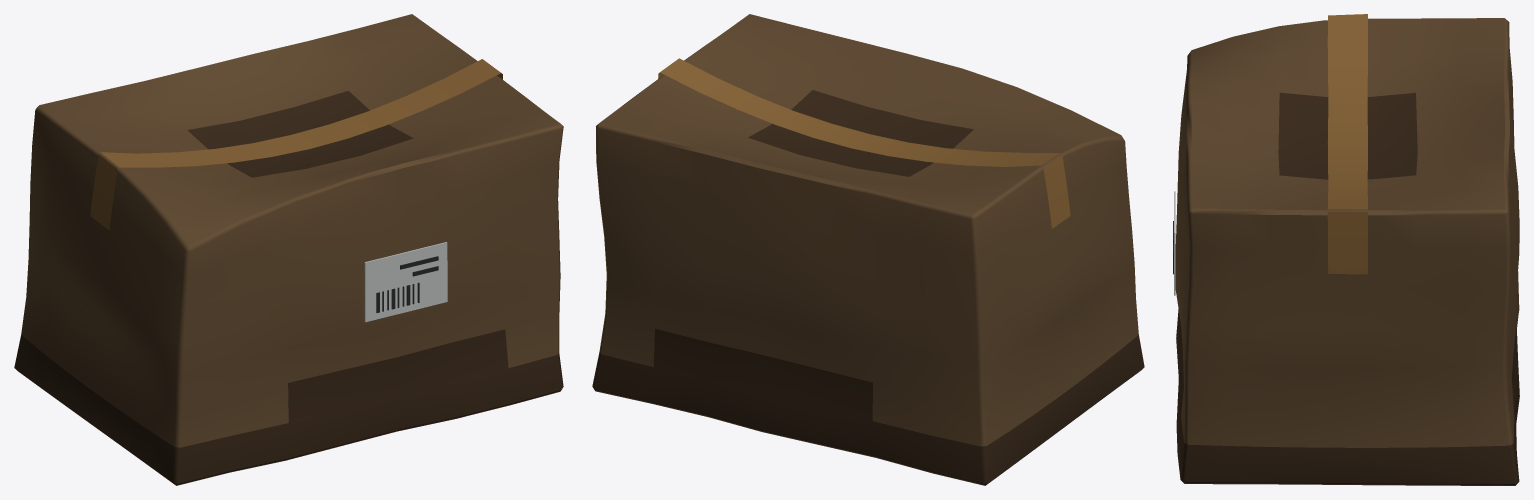
The model's file is Cardboard_Box_Wet_A.fbx.
3 views of the same model, side by side, from view 1: azimuth 30°, elevation 25°; view 2: azimuth 150°, elevation 25°; view 3: azimuth 270°, elevation 25° (orthographic). The views are drawn at different scales.
Parts seen in each view (by area): view 1: Cardboard_Box_Wet_A_LOD0; view 2: Cardboard_Box_Wet_A_LOD0; view 3: Cardboard_Box_Wet_A_LOD0.
Part boxes in pixels (bbox=[...]): Cardboard_Box_Wet_A_LOD0: bbox=[14, 14, 563, 485]; Cardboard_Box_Wet_A_LOD0: bbox=[592, 14, 1144, 485]; Cardboard_Box_Wet_A_LOD0: bbox=[1173, 14, 1519, 485].
Size of what is drawn, in the model's own units: 0.6334 by 0.4025 by 0.4528.
